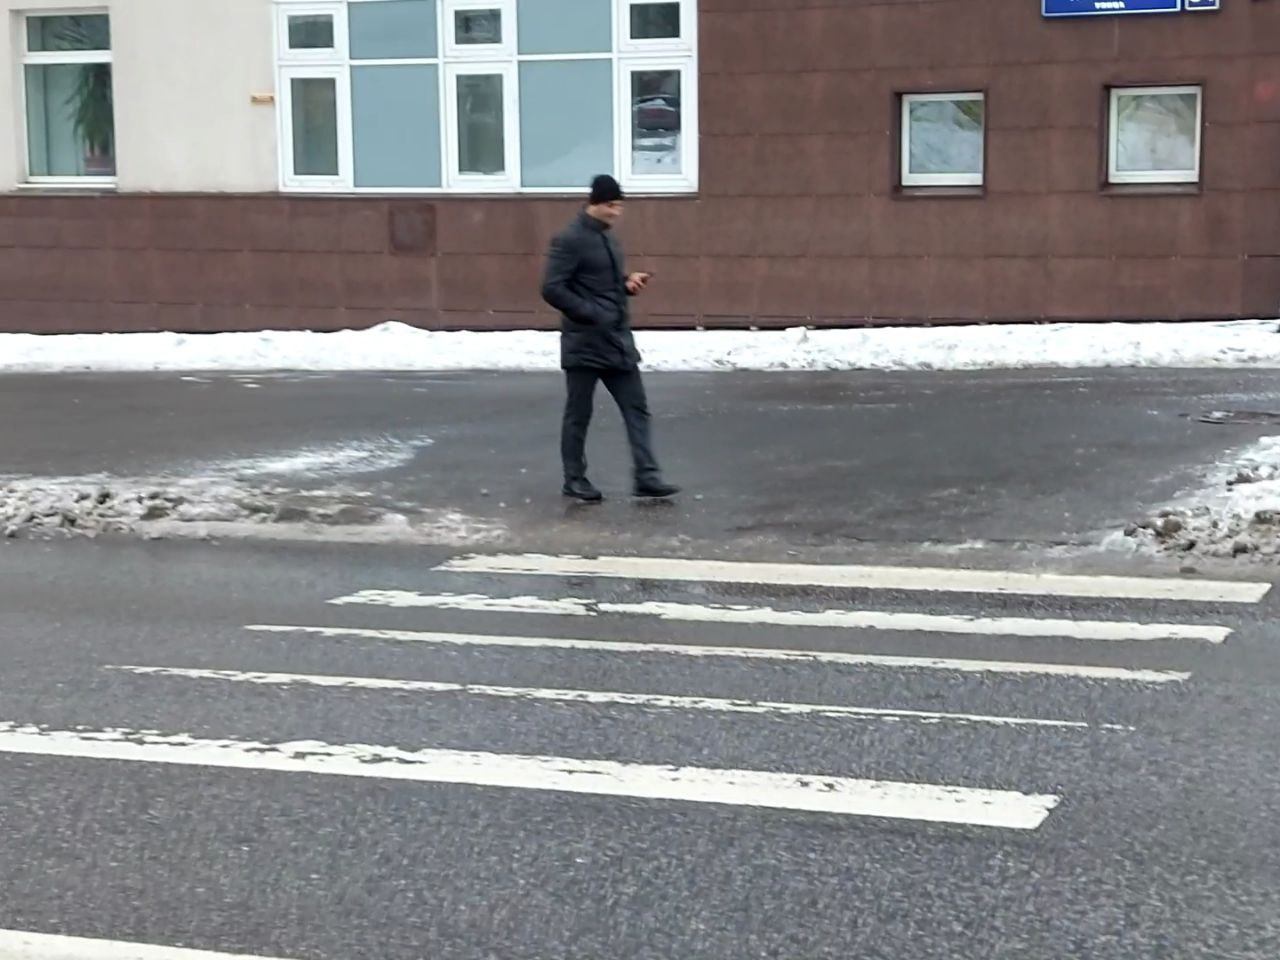sombie: (510, 165, 707, 522)
